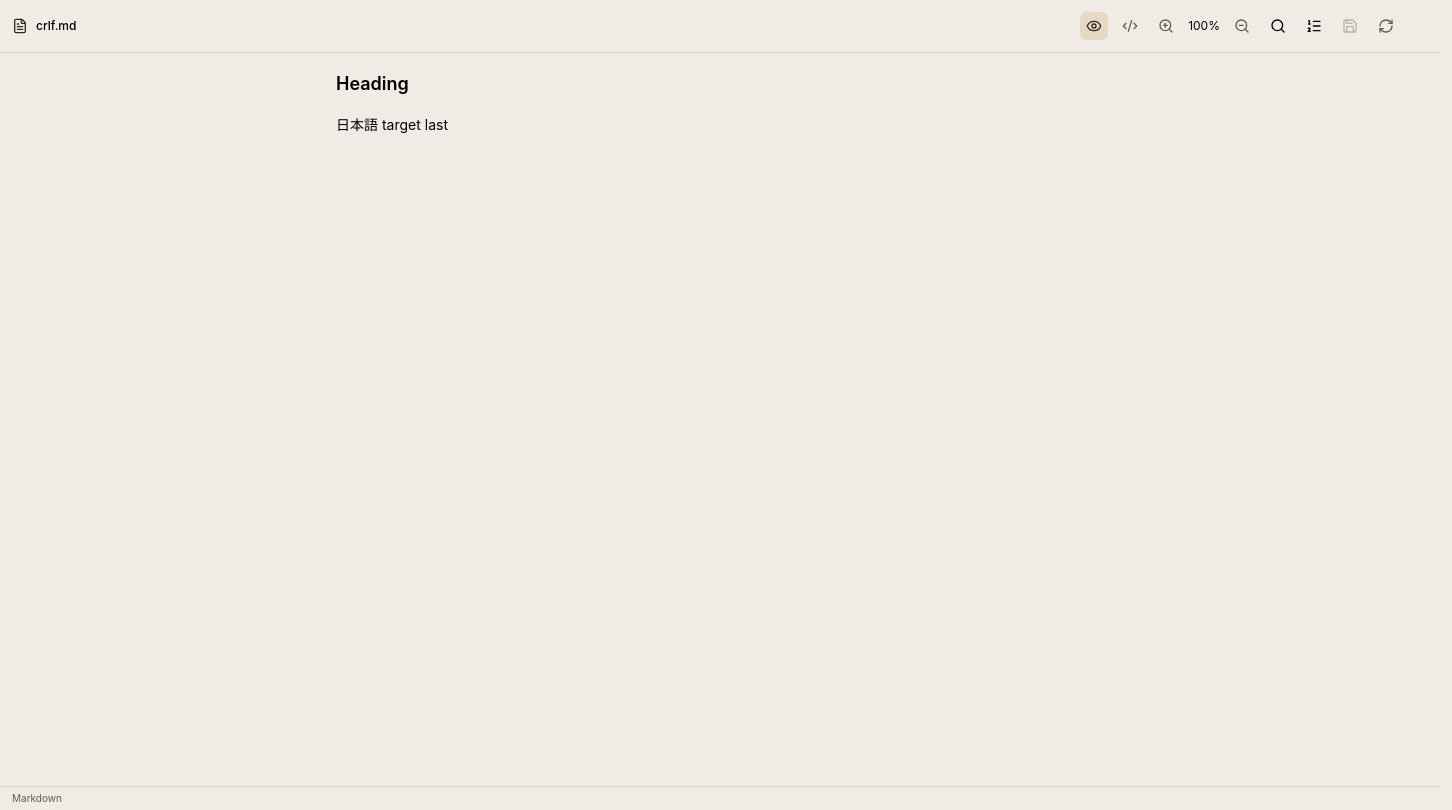
Test: Markdown source editing › updates cursor position for search navigation and handles CRLF source offsets
The image size is (1452, 810).
Expected: the heading "Heading" is shown, [336, 73, 409, 94]
Click the button named "Go to line" at (1314, 26), box [1300, 12, 1328, 40]
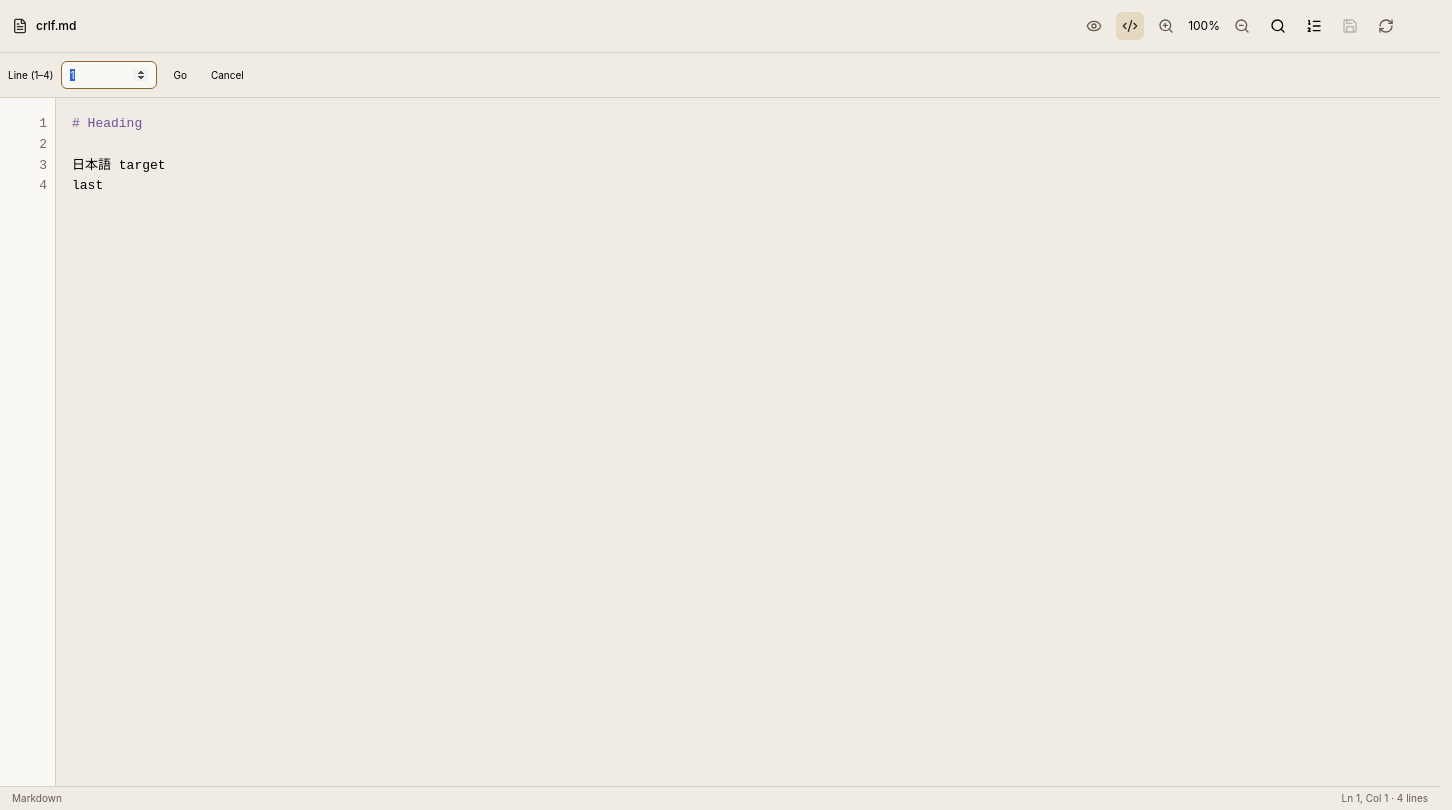
Replace the text in the number field with "3" at (110, 75), box [62, 61, 158, 89]
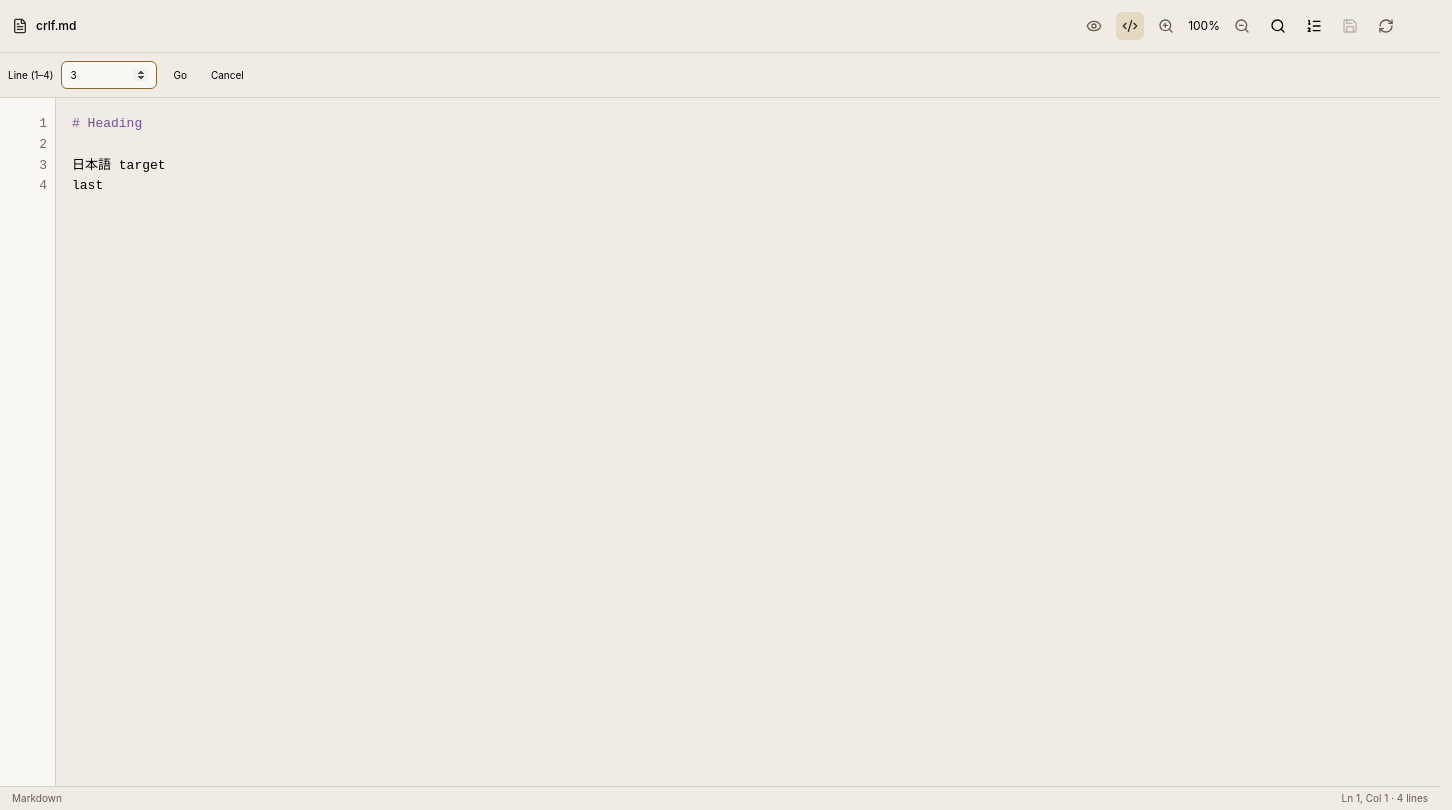
Submit the form, box [0, 53, 1440, 98]
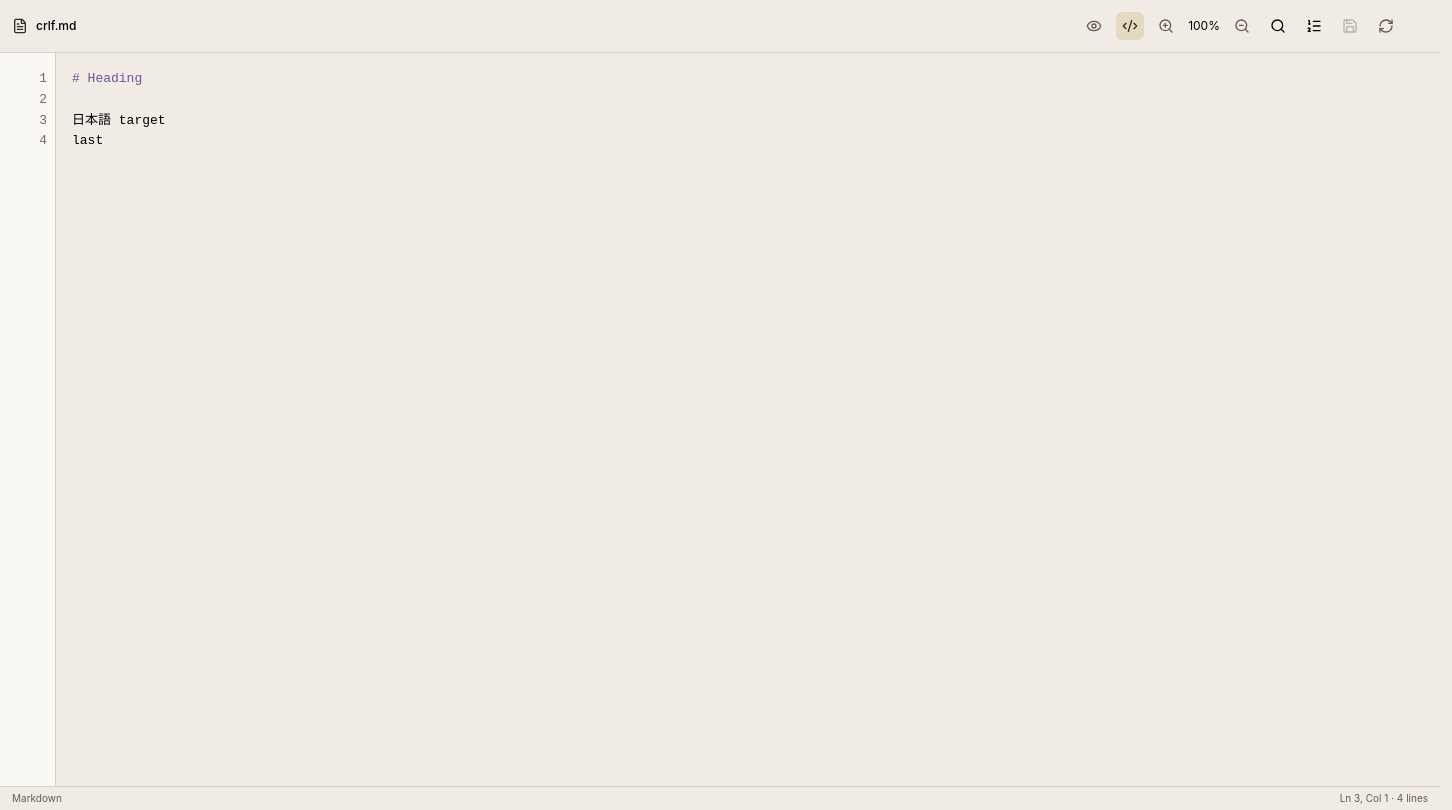
Now the button with aria-label "Current cursor position" shows "Ln 3, Col 1", box [1340, 791, 1428, 806]
Click the button named "Find in file" at (1278, 26), box [1264, 12, 1292, 40]
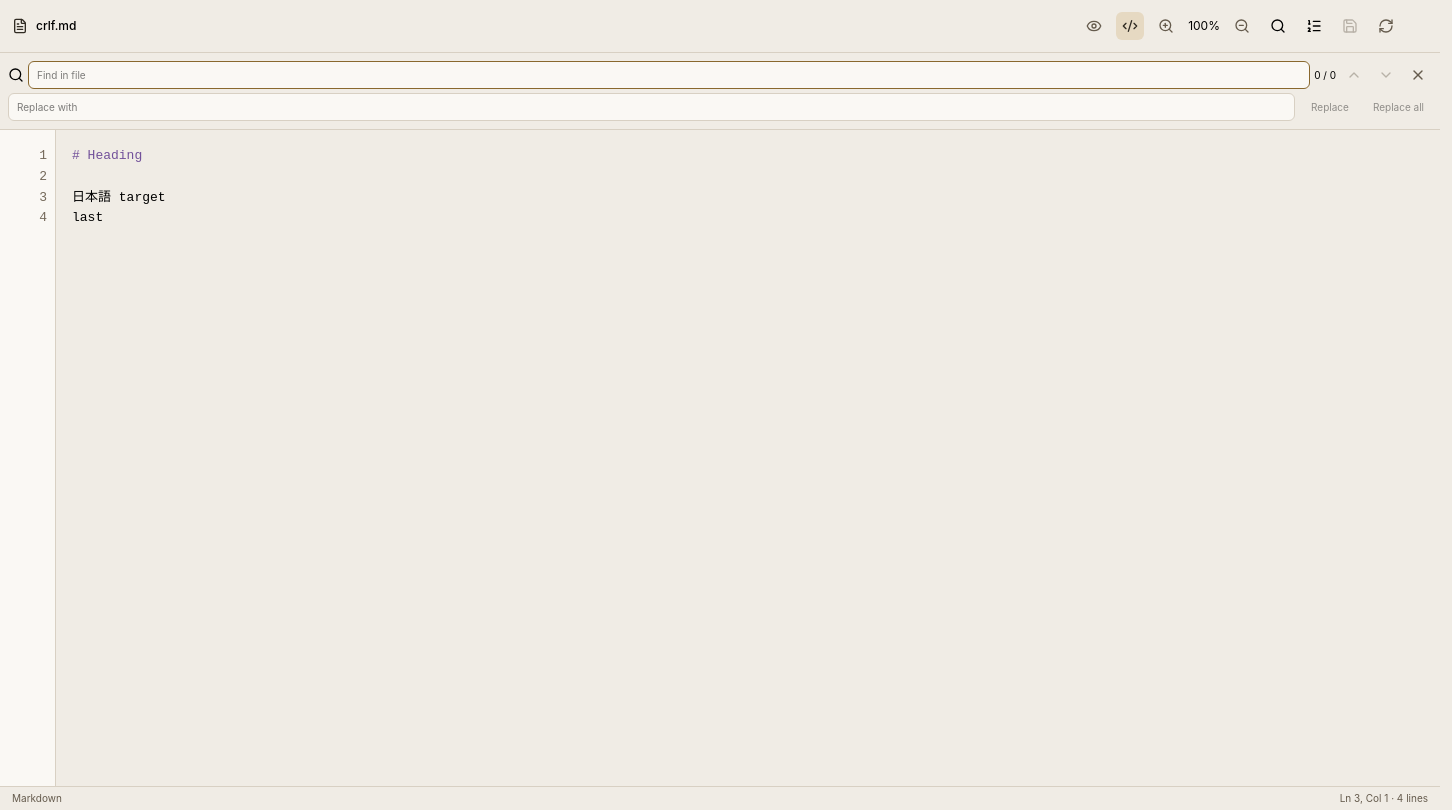
Type "target" into the field labelled "Find in file" at (669, 75), box [28, 61, 1310, 89]
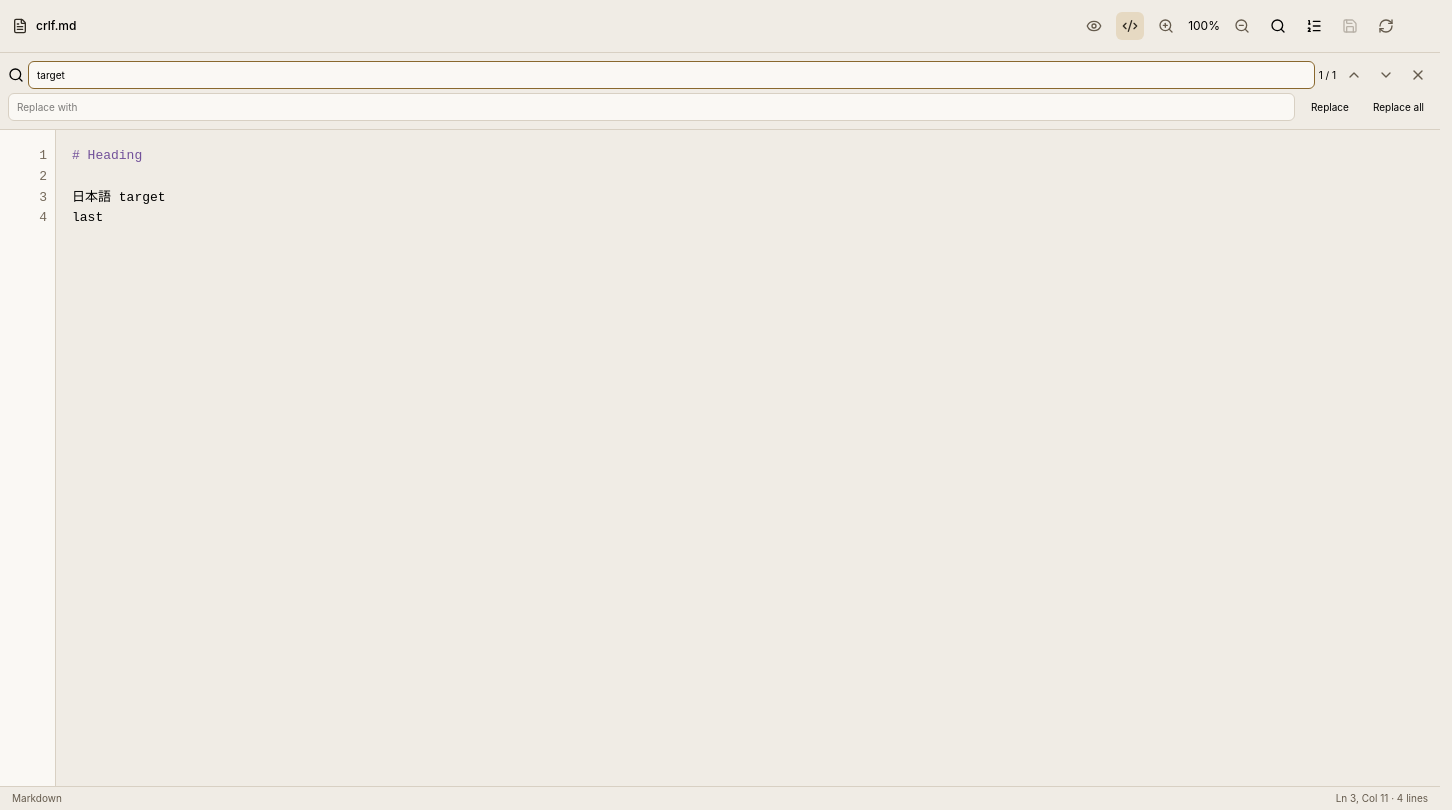
Now the button with aria-label "Current cursor position" shows "Ln 3, Col 11", box [1336, 791, 1428, 806]
